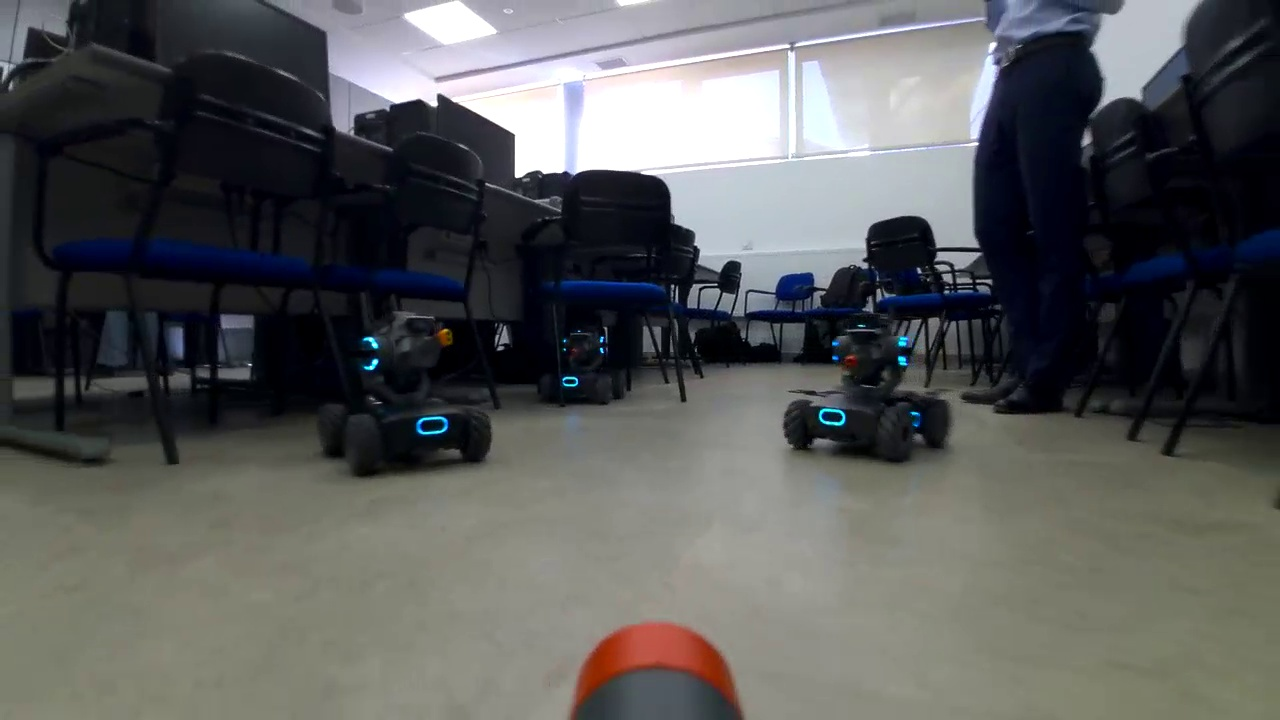robot: (313, 308, 497, 475), (783, 324, 957, 465), (536, 323, 640, 416)
